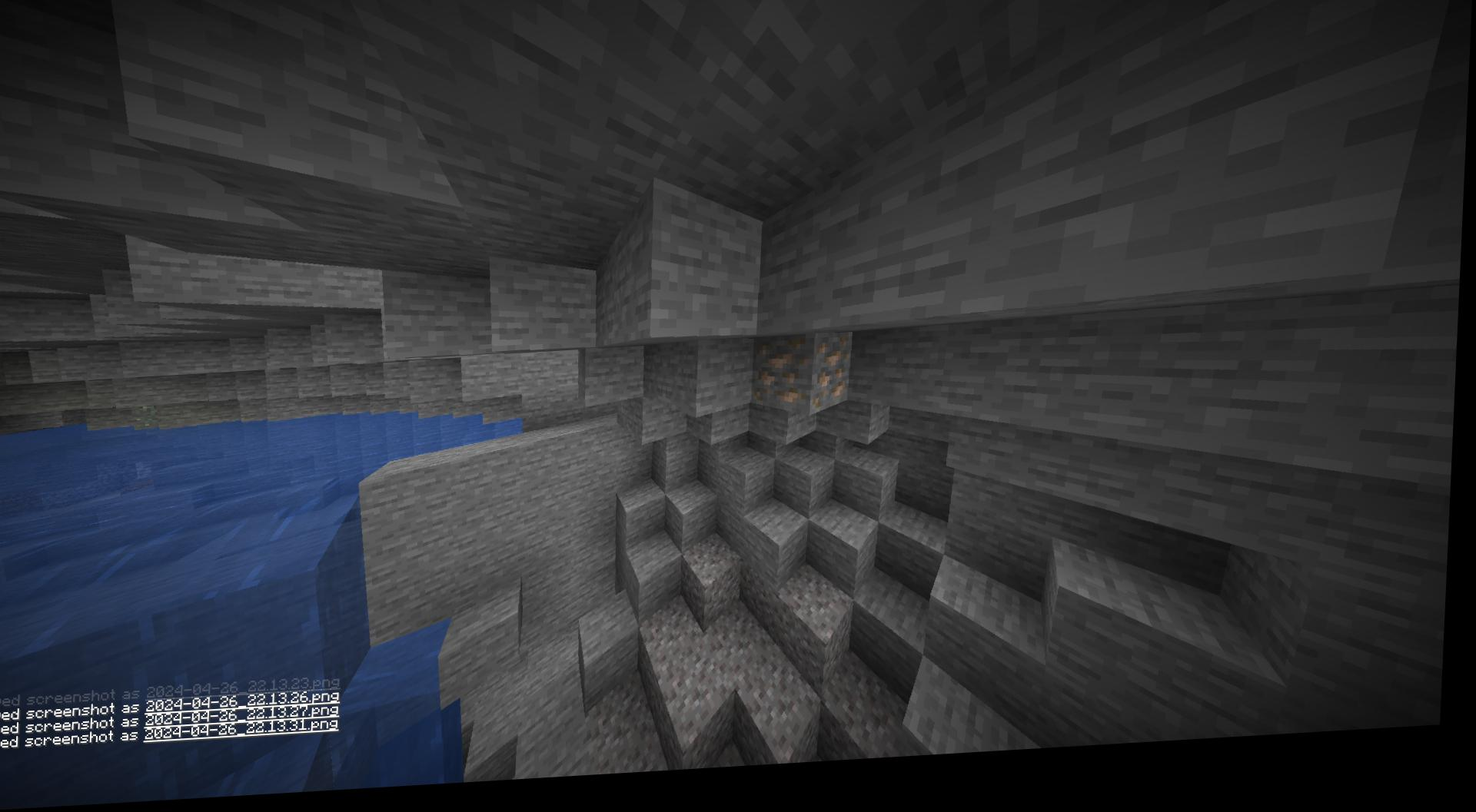iron ore: (757, 341, 856, 421)
